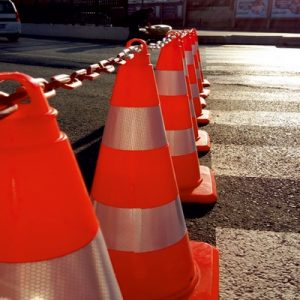cones: (94, 38, 219, 298), (1, 71, 121, 300)
